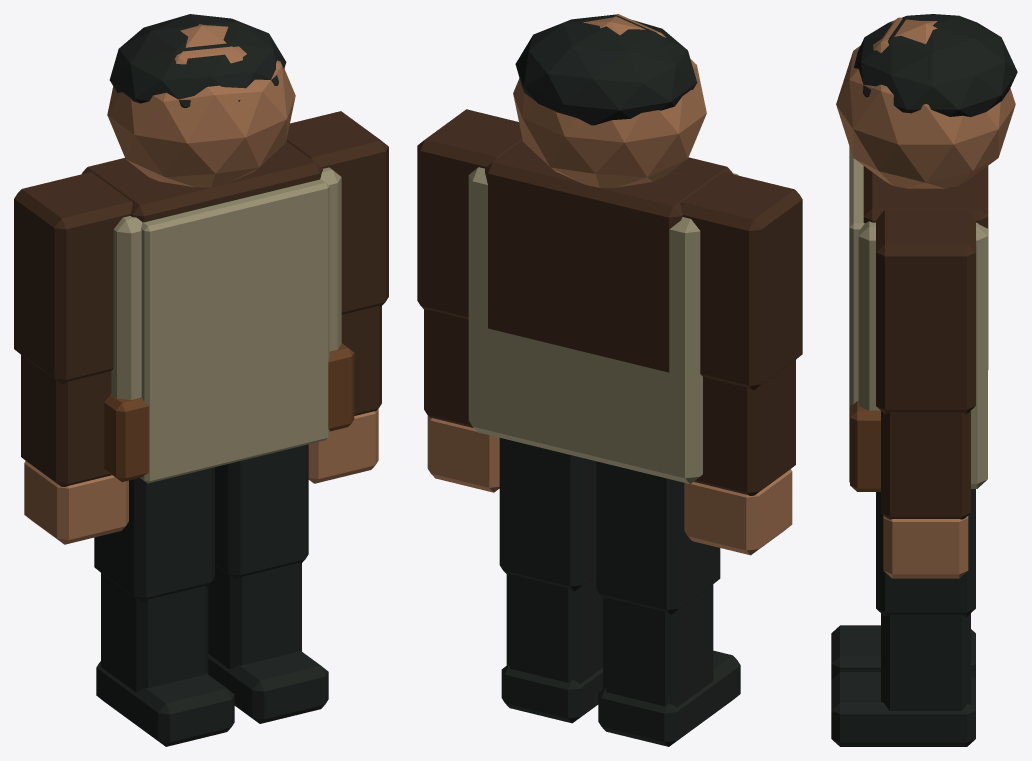
The model's file is OrinQuartermaster.glb.
3 views of the same model, side by side, from view 1: azimuth 30°, elevation 25°; view 2: azimuth 150°, elevation 25°; view 3: azimuth 270°, elevation 25° (orthographic). The views are drawn at different scales.
Visible parts, largest first — view 1: UpperTorso_Apron, LeftUpperArm, Head, LeftUpperLeg, RightUpperArm, RightUpperLeg, LeftLowerLeg, Head_HairCap, LeftLowerArm, RightLowerLeg, UpperTorso_Tunic, UpperTorso (+7 smaller); view 2: UpperTorso, UpperTorso_Tunic, LeftUpperArm, Head_HairCap, LeftUpperLeg, RightUpperLeg, Head, RightUpperArm, LeftLowerLeg, LeftLowerArm, RightLowerLeg, LeftHand (+4 smaller); view 3: RightUpperArm, Head, Head_HairCap, RightLowerArm, RightLowerLeg, RightFoot, UpperTorso_Tunic, RightHand, RightUpperLeg, UpperTorso, UpperTorso_Apron, LowerTorso_Pouch2 (+1 smaller).
Part boxes in pixels (x1=…): UpperTorso_Apron: x1=140, y1=179, x2=329, y2=483; LeftUpperArm: x1=14, y1=172, x2=132, y2=384; Head: x1=107, y1=24, x2=295, y2=187; LeftUpperLeg: x1=94, y1=467, x2=214, y2=602; RightUpperArm: x1=286, y1=111, x2=388, y2=314; RightUpperLeg: x1=215, y1=444, x2=308, y2=579; LeftLowerLeg: x1=101, y1=573, x2=208, y2=692; Head_HairCap: x1=109, y1=14, x2=286, y2=107; LeftLowerArm: x1=21, y1=355, x2=111, y2=486; RightLowerLeg: x1=208, y1=563, x2=301, y2=669; UpperTorso_Tunic: x1=111, y1=167, x2=341, y2=399; UpperTorso: x1=82, y1=141, x2=322, y2=222; UpperTorso: x1=485, y1=140, x2=732, y2=372; UpperTorso_Tunic: x1=468, y1=167, x2=702, y2=483; LeftUpperArm: x1=680, y1=172, x2=802, y2=390; Head_HairCap: x1=515, y1=14, x2=697, y2=125; LeftUpperLeg: x1=596, y1=461, x2=720, y2=614; RightUpperLeg: x1=499, y1=438, x2=596, y2=591; Head: x1=513, y1=14, x2=706, y2=187; RightUpperArm: x1=417, y1=109, x2=522, y2=319; LeftLowerLeg: x1=603, y1=584, x2=713, y2=707; LeftLowerArm: x1=694, y1=360, x2=795, y2=495; RightLowerLeg: x1=506, y1=574, x2=602, y2=683; LeftHand: x1=684, y1=469, x2=792, y2=555; RightUpperArm: x1=876, y1=210, x2=975, y2=414; Head: x1=836, y1=17, x2=1015, y2=188; Head_HairCap: x1=848, y1=14, x2=1017, y2=116; RightLowerArm: x1=881, y1=411, x2=970, y2=519; RightLowerLeg: x1=881, y1=613, x2=970, y2=710; RightFoot: x1=831, y1=672, x2=975, y2=746; UpperTorso_Tunic: x1=858, y1=221, x2=987, y2=488; RightHand: x1=883, y1=515, x2=968, y2=578; RightUpperLeg: x1=876, y1=489, x2=975, y2=616; UpperTorso: x1=863, y1=166, x2=988, y2=369; UpperTorso_Apron: x1=849, y1=146, x2=864, y2=482; LowerTorso_Pouch2: x1=850, y1=401, x2=880, y2=491.
Size of the model in its own units: 4.42 by 8.48 by 2.09.
1 material, 1 textured.
